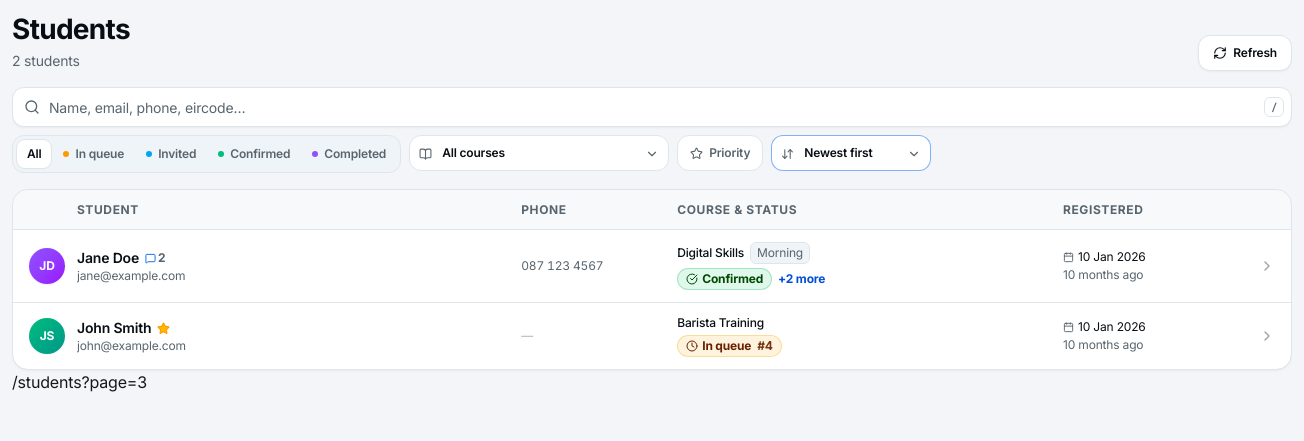
ViewerStudentsDirectory › debounces the search and resets to page 1
Type "Smith" into the search field named "Search students". click: (652, 107)
box: [12,87,1292,127]
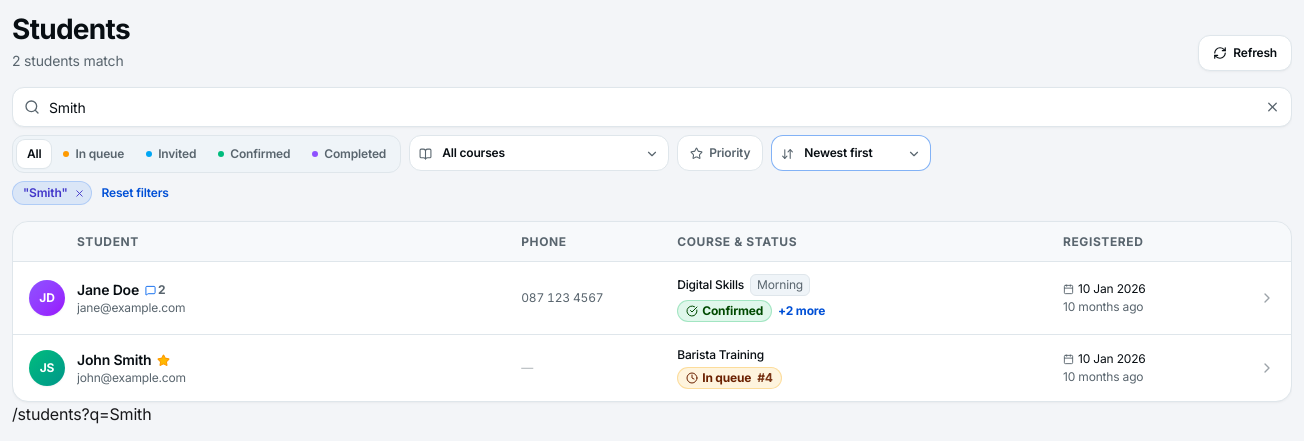
Expected: the text with test id "location" reads "/students?q=Smith", [12,404,151,424]
